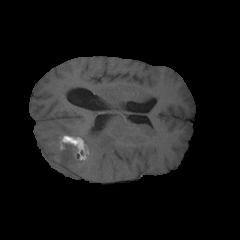glioma: (41, 125, 156, 177)
